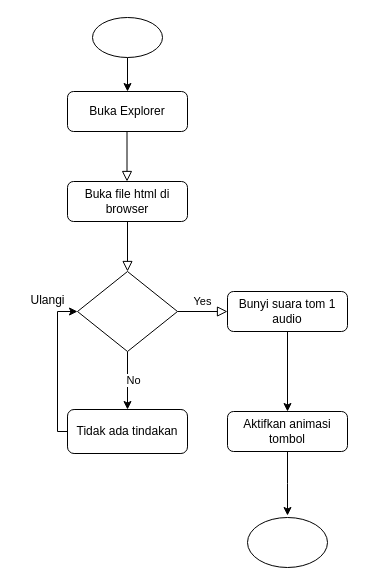
This 365x585 diagram has some shape labels left out. The box of each missing label's shape, as (x1, y1, x2, y2) in pixels:
Klik button W: (76, 270, 178, 352)
Mulai: (92, 16, 162, 58)
Selesai: (246, 516, 328, 568)
